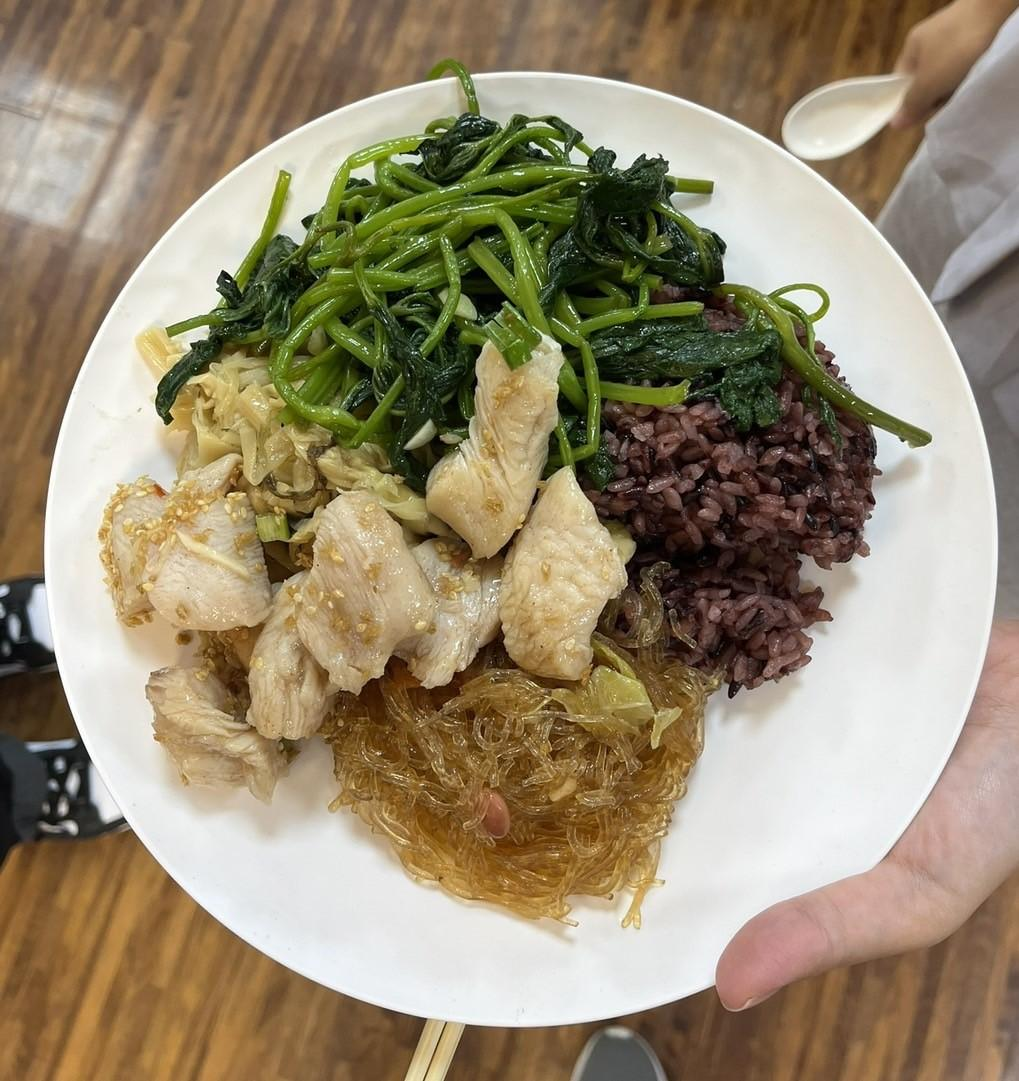big fried chicken leg: (43, 53, 1005, 1030)
braised fish: (593, 293, 863, 680)
braised fish fillet: (157, 99, 828, 393), (347, 616, 706, 922)
braised pork: (93, 318, 615, 790)
